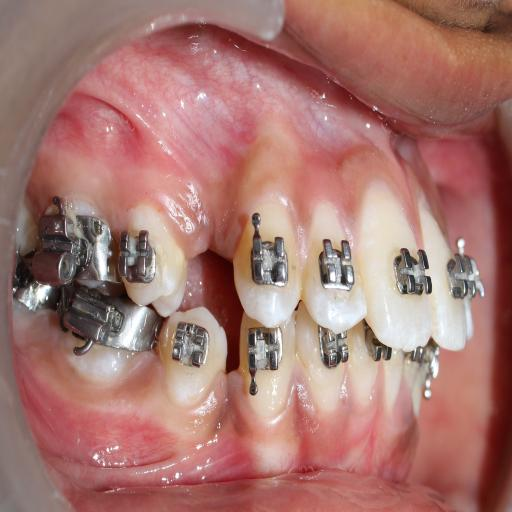correct_brace: (121, 201, 188, 316), (247, 230, 293, 296), (312, 233, 354, 300), (392, 237, 432, 302)
incorrect_brace: (303, 202, 363, 332), (119, 226, 156, 288)
